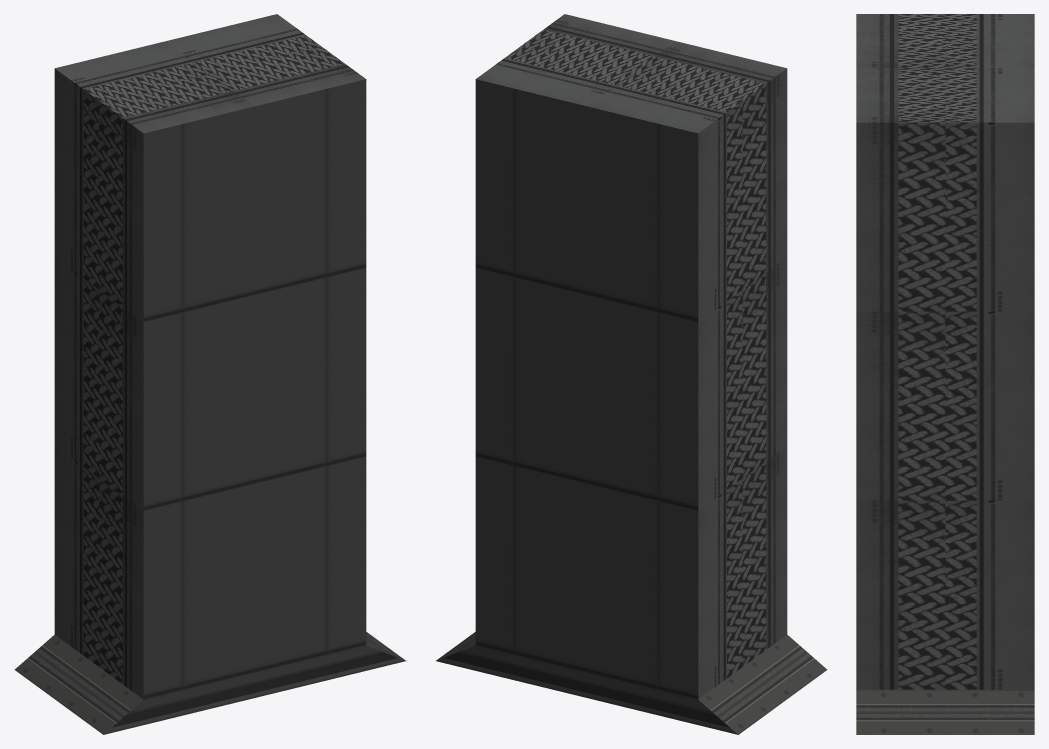
Rendered from ArenaGroundInter.fbx.
The picture shows the model from 3 angles, left to right: view 1: azimuth 30°, elevation 25°; view 2: azimuth 150°, elevation 25°; view 3: azimuth 270°, elevation 25°; orthographic projection.
Visible parts, largest first — view 1: ArenaGroundInter, ArenaGroundInter.001; view 2: ArenaGroundInter, ArenaGroundInter.001; view 3: ArenaGroundInter, ArenaGroundInter.001.
Part boxes in pixels (x1,y1,x2,y2): ArenaGroundInter: (14, 83, 405, 734); ArenaGroundInter.001: (54, 14, 366, 147); ArenaGroundInter: (436, 83, 827, 734); ArenaGroundInter.001: (475, 14, 787, 147); ArenaGroundInter: (856, 137, 1034, 734); ArenaGroundInter.001: (856, 14, 1034, 136).
Size of the model in its own units: 220 by 411 by 112.
